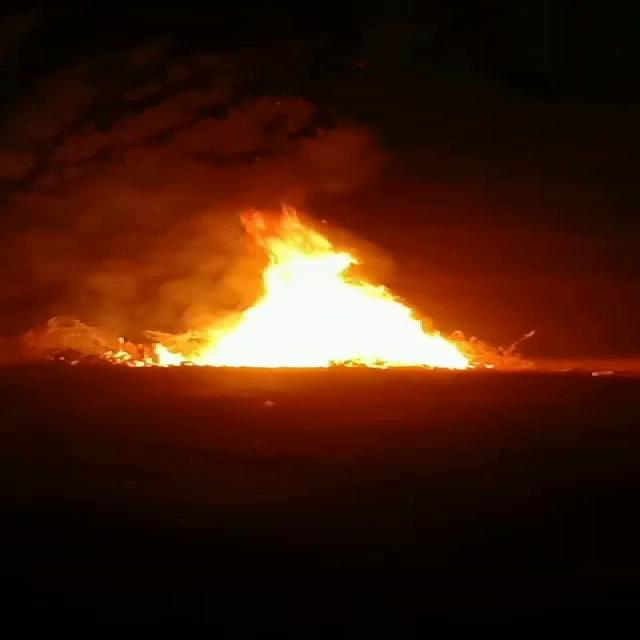Fire: (180, 217, 472, 369)
